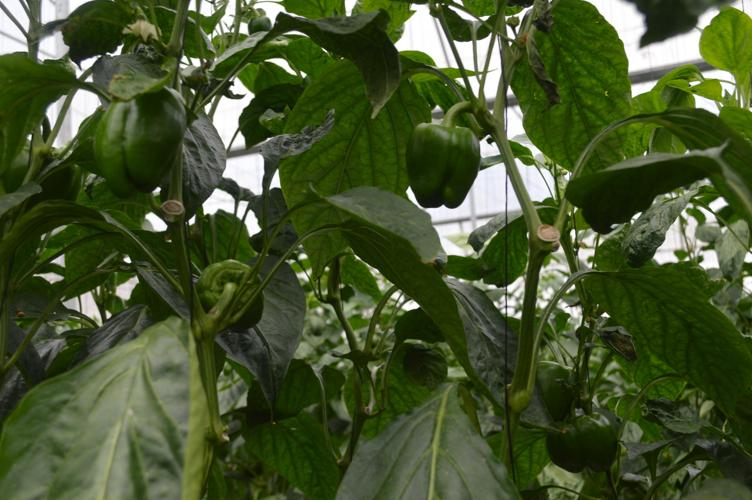BellPepper: (91, 91, 192, 196), (405, 126, 482, 213), (195, 257, 260, 331), (546, 416, 615, 471), (535, 360, 579, 416)
